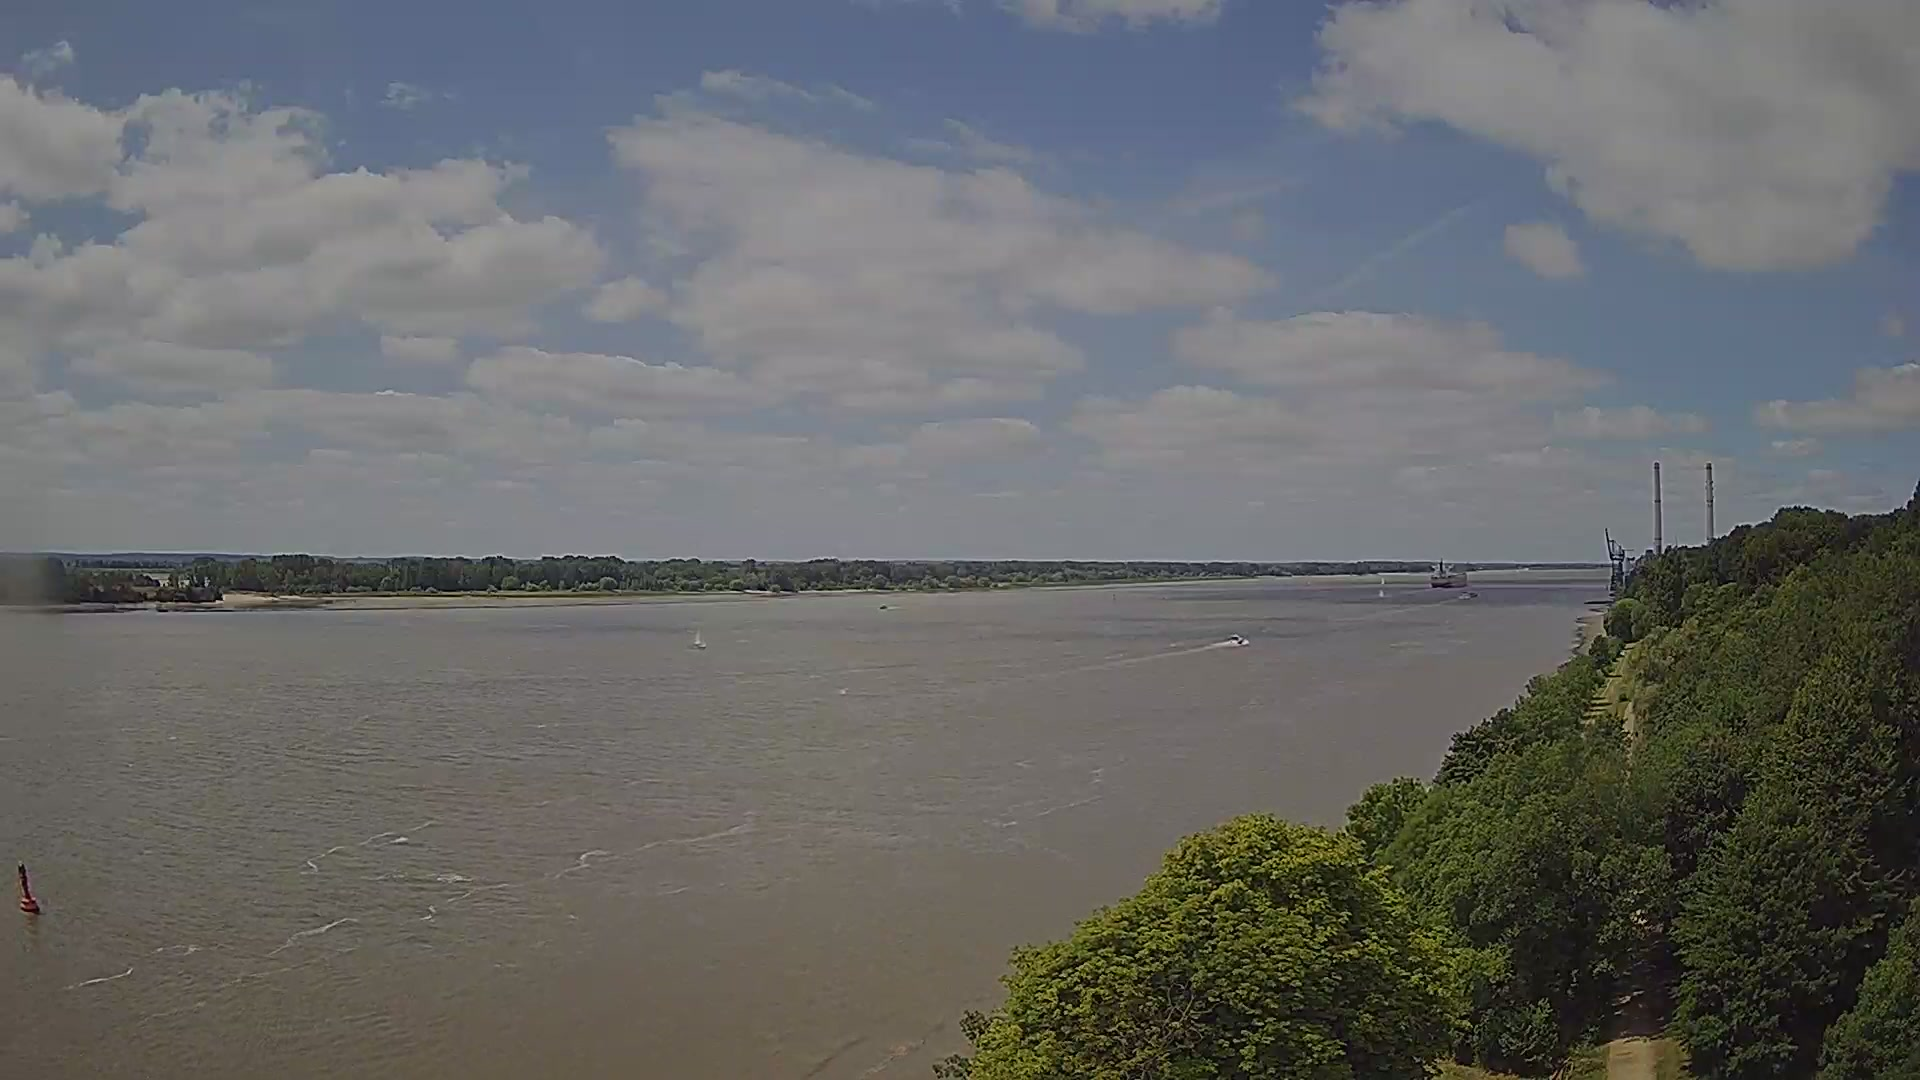sea: (1429, 555, 1466, 588), (1226, 632, 1249, 647), (692, 628, 705, 649), (1458, 589, 1478, 601), (1378, 588, 1385, 597), (880, 603, 887, 609), (1381, 576, 1385, 584)
